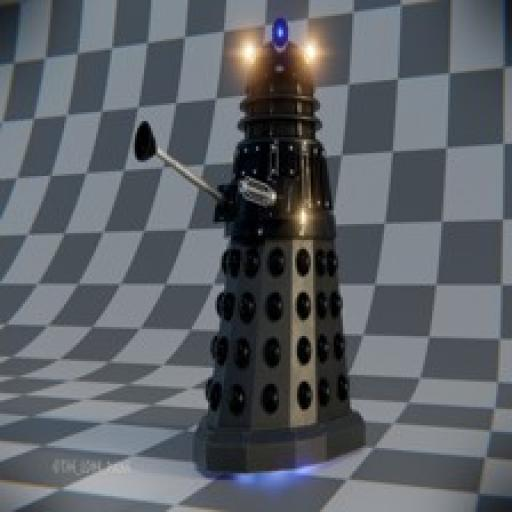dalek: (124, 16, 364, 476)
